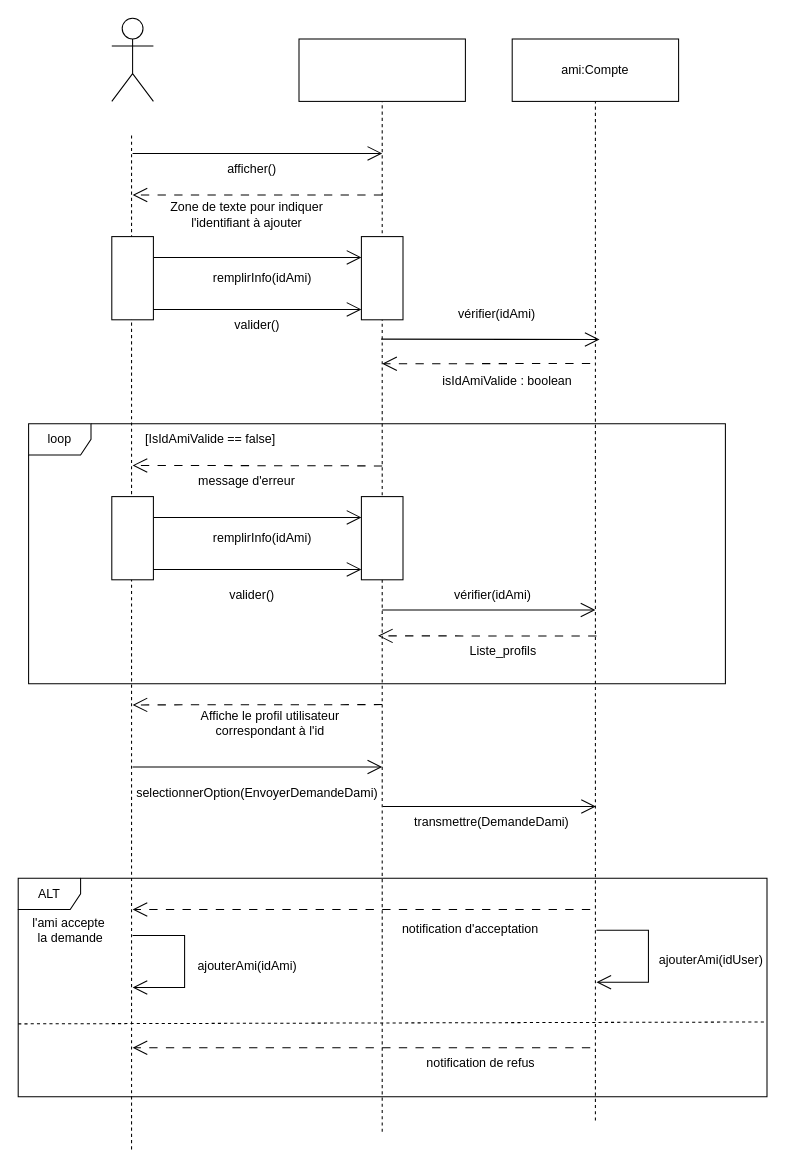
Image size: 791x1169. Some labels were removed from this diagram. The shapes that lost their labels are listed below. From the top down, each one's centre as x and y in pixels, then its label:
At point 132,59: ": Utilisateur".
At point 381,69: "pageAjoutAmi : Page".
